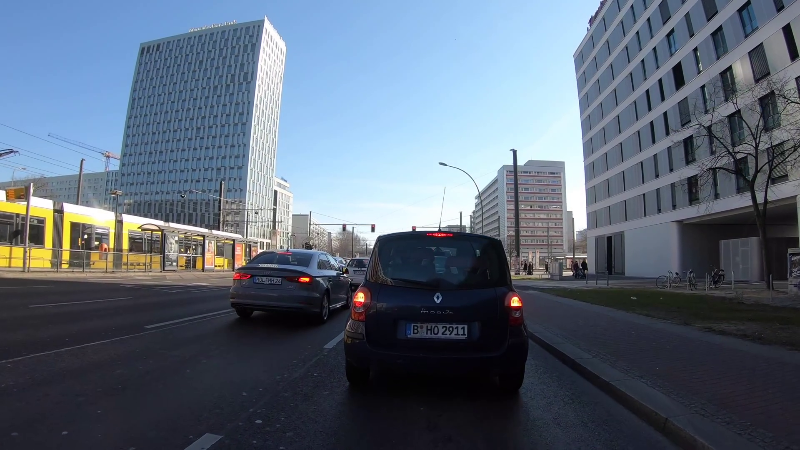Plate: (401, 320, 470, 342), (252, 275, 284, 288)
